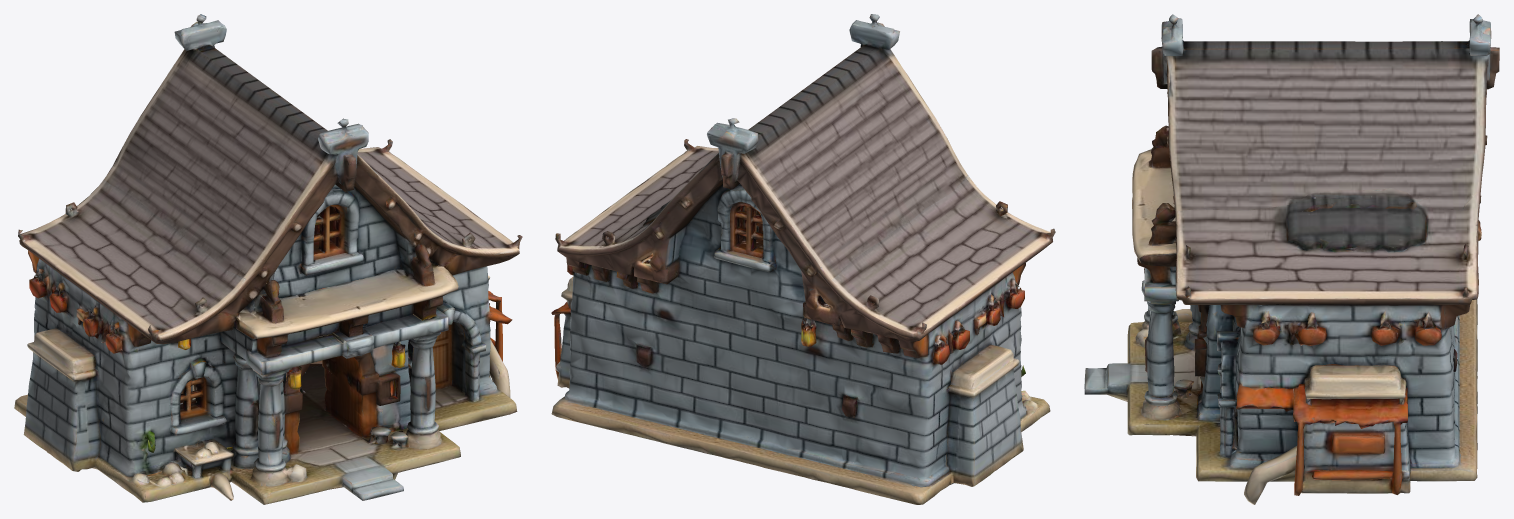
The model's file is Dwarven Building #3_final.glb.
3 views of the same model, side by side, from view 1: azimuth 30°, elevation 25°; view 2: azimuth 150°, elevation 25°; view 3: azimuth 270°, elevation 25° (orthographic). The views are drawn at different scales.
Size of the model in its own units: 1.91 by 1.54 by 1.49.
1 material, 1 textured.
